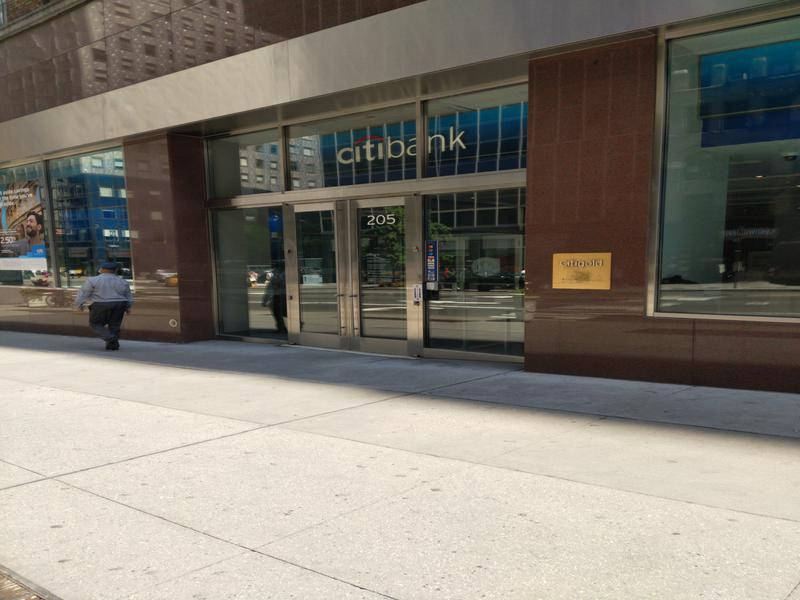double_door: (284, 196, 420, 358)
